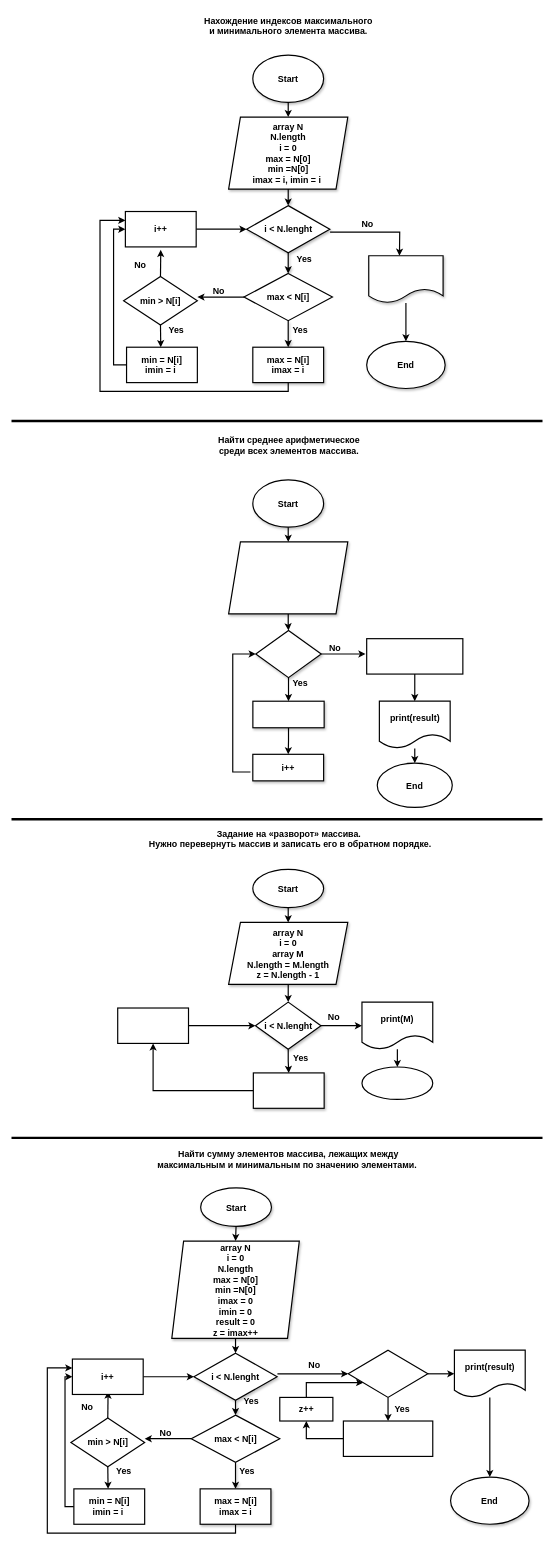
Image size: 553x1548. Some labels were removed from this diagram. Here are the shapes that lost their labels. From the top down, the centre of each, then its label:
At pixel 406 280: "print(imax, imin)".
At pixel 288 578: "array N N.length i = 0 sum = 0 result = 0".
At pixel 289 654: "i < N.length".
At pixel 414 656: "result = sum / N.length".
At pixel 289 715: "sum = sum + N[i]".
At pixel 153 1025: "i++ z--".
At pixel 289 1091: "M[i] = N[z]".
At pixel 397 1083: "Stop".
At pixel 387 1373: "imin > z".
At pixel 387 1438: "result = result + N[z]".
